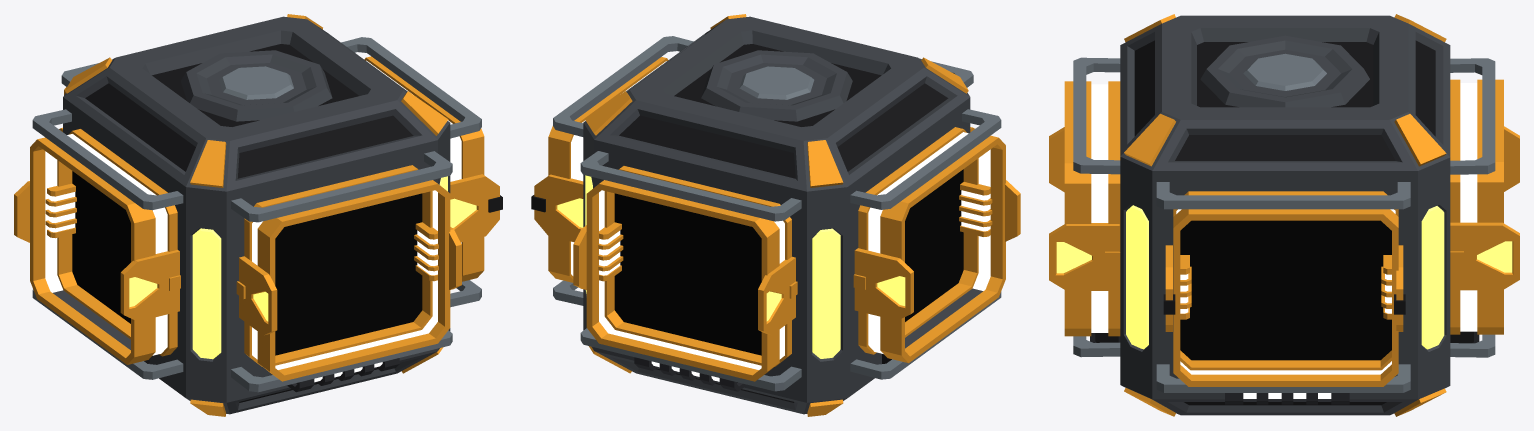
Rendered from SM_Coveyor_connector.glb.
3 views of the same model, side by side, from view 1: azimuth 30°, elevation 25°; view 2: azimuth 150°, elevation 25°; view 3: azimuth 270°, elevation 25° (orthographic). The views are drawn at different scales.
Parts seen in each view (by area): view 1: SM_Coveyor_connector; view 2: SM_Coveyor_connector; view 3: SM_Coveyor_connector.
Boxes of the visible parts, x1,y1,x2,y2 form: SM_Coveyor_connector: [14, 14, 502, 416]; SM_Coveyor_connector: [531, 14, 1020, 416]; SM_Coveyor_connector: [1049, 14, 1519, 416].
Size of the model in its own units: 2.72 by 1.89 by 2.72.
3 materials, 1 textured.
